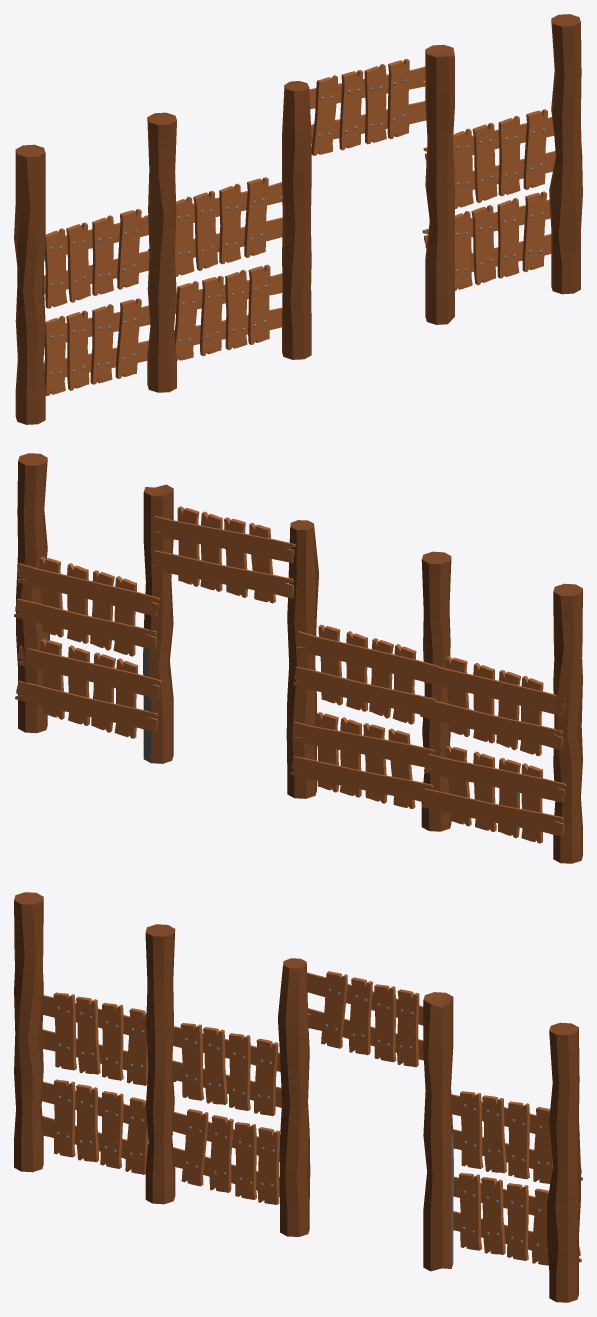
The model's file is Fence4.fbx.
3 views of the same model, one above another, from view 1: azimuth 30°, elevation 25°; view 2: azimuth 150°, elevation 25°; view 3: azimuth 330°, elevation 25° (orthographic).
Parts seen in each view (by area): view 1: fence_04; view 2: fence_04; view 3: fence_04.
Part boxes in pixels (x1,y1,x2,y2): fence_04: [14, 14, 582, 424]; fence_04: [14, 453, 582, 863]; fence_04: [14, 892, 582, 1302].
Size of the model in its own units: 17.95 by 8.14 by 1.07.
